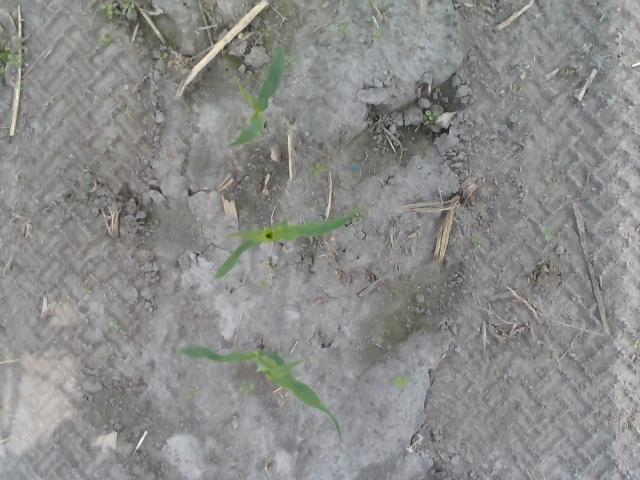Maize: (178, 344, 343, 442), (214, 198, 362, 276), (227, 46, 288, 148)
Weeds: (0, 38, 26, 70), (98, 1, 134, 21), (313, 160, 327, 179), (392, 376, 413, 388), (239, 380, 254, 394), (284, 52, 298, 65), (541, 226, 553, 240), (426, 110, 441, 121), (110, 320, 122, 332), (470, 234, 480, 248), (99, 37, 113, 47), (564, 69, 576, 80), (339, 24, 349, 36), (124, 108, 134, 118), (355, 211, 365, 220), (188, 390, 196, 400), (374, 31, 382, 41), (2, 352, 11, 360)
